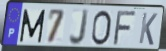7: (47, 8, 67, 45)
F: (111, 11, 138, 47)
J: (68, 8, 91, 47)
K: (138, 12, 159, 47)
M: (19, 8, 47, 44)
O: (89, 9, 112, 47)
